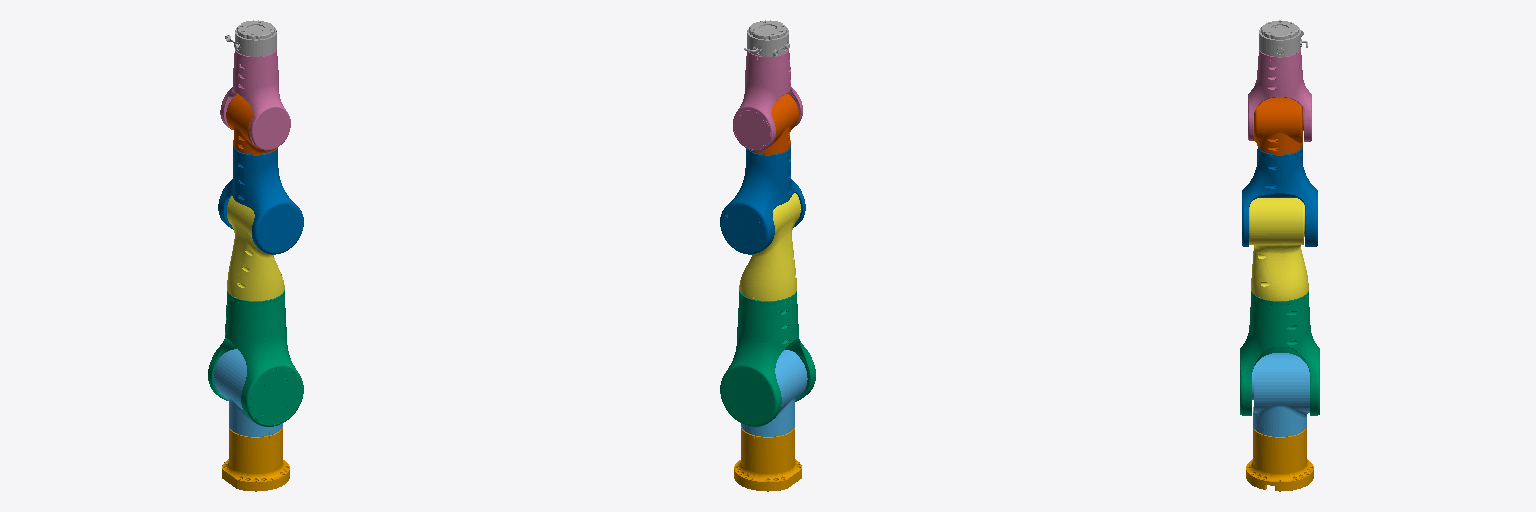
robot.urdf — DobotCR5:
<?xml version="1.0" ?>
<!-- =================================================================================== -->
<!-- |    This document was autogenerated by xacro from robot.xacro                    | -->
<!-- |    EDITING THIS FILE BY HAND IS NOT RECOMMENDED                                 | -->
<!-- =================================================================================== -->
<robot name="DobotCR5">
  <!-- Arm Base Link -->
  <link name="base_link">
    <inertial>
      <mass value="2.4"/>
      <inertia ixx="0.00397965" ixy="0.00000303" ixz="0.00000035" iyy="0.00315361" iyz="0.00002442" izz="0.00357979"/>
      <origin xyz="2.6805e-05 0.0011749210000000002 0.171179958"/>
    </inertial>
    <visual>
      <geometry>
        <mesh filename="package://rokae_ar5_description/meshes/base.obj" scale="1 -1 1"/>
      </geometry>
    </visual>
    <collision>
      <geometry>
        <mesh filename="package://rokae_ar5_description/meshes/base.obj" scale="1 -1 1"/>
      </geometry>
    </collision>
  </link>
  <!-- Joint 1 -->
  <joint name="joint1" type="revolute">
    <parent link="base_link"/>
    <child link="link1"/>
    <limit effort="108" lower="-3.1414" upper="3.1414" velocity="3.9269908169872414"/>
    <axis xyz="0 0 1"/>
    <origin rpy="0 0 -3.14159" xyz="0.0 0.0 0.1745"/>
  </joint>
  <!-- Arm Link 1 -->
  <link name="link1">
    <inertial>
      <mass value="2.4"/>
      <inertia ixx="0.00397965" ixy="0.00000303" ixz="0.00000035" iyy="0.00315361" iyz="0.00002442" izz="0.00357979"/>
      <origin xyz="2.6805e-05 0.0011749210000000002 0.171179958"/>
    </inertial>
    <visual>
      <geometry>
        <mesh filename="package://rokae_ar5_description/meshes/link1.obj" scale="1 -1 1"/>
      </geometry>
    </visual>
    <collision>
      <geometry>
        <mesh filename="package://rokae_ar5_description/meshes/link1.obj" scale="1 -1 1"/>
      </geometry>
    </collision>
  </link>
  <!-- Joint 2 -->
  <joint name="joint2" type="revolute">
    <parent link="link1"/>
    <child link="link2"/>
    <limit effort="108" lower="-2.1293" upper="2.1293" velocity="3.9269908169872414"/>
    <axis xyz="0 -1 0"/>
  </joint>
  <!-- Arm Link 2 -->
  <link name="link2">
    <inertial>
      <mass value="2.26"/>
      <inertia ixx="0.00998456" ixy="0.00000011" ixz="-0.00000049" iyy="0.00864243" iyz="0.00070944" izz="0.00397909"/>
      <origin xyz="1.0382e-05 -0.003330598 0.100666568"/>
    </inertial>
    <visual>
      <geometry>
        <mesh filename="package://rokae_ar5_description/meshes/link2.obj" scale="1 -1 1"/>
      </geometry>
    </visual>
    <collision>
      <geometry>
        <mesh filename="package://rokae_ar5_description/meshes/link2.obj" scale="1 -1 1"/>
      </geometry>
    </collision>
  </link>
  <!-- Joint 3 -->
  <joint name="joint3" type="revolute">
    <parent link="link2"/>
    <child link="link3"/>
    <limit effort="66" lower="-3.1416" upper="3.1416" velocity="5.235987755982989"/>
    <axis xyz="0 0 1"/>
    <origin rpy="0 0 3.1415926535" xyz="0.0 0.0 0.305"/>
  </joint>
  <!-- Arm Link 3 -->
  <link name="link3">
    <inertial>
      <mass value="1.85"/>
      <inertia ixx="0.00514901" ixy="0.00000705" ixz="0.00033523" iyy="0.00455840" iyz="0.00005313" izz="0.00249866"/>
      <origin xyz="0.007574792 0.001848523 -0.017501298"/>
    </inertial>
    <visual>
      <geometry>
        <mesh filename="package://rokae_ar5_description/meshes/link3.obj" scale="1 -1 1"/>
      </geometry>
    </visual>
    <collision>
      <geometry>
        <mesh filename="package://rokae_ar5_description/meshes/link3.obj" scale="1 -1 1"/>
      </geometry>
    </collision>
  </link>
  <!-- Joint 4 -->
  <joint name="joint4" type="revolute">
    <parent link="link3"/>
    <child link="link4"/>
    <limit effort="66" lower="-1.3963" upper="2.5307" velocity="5.235987755982989"/>
    <axis xyz="0 1 0"/>
    <origin xyz="0.01 0.0 0.0"/>
  </joint>
  <!-- Arm Link 4 -->
  <link name="link4">
    <inertial>
      <mass value="1.19"/>
      <inertia ixx="0.00358515" ixy="-0.00005009" ixz="-0.00016645" iyy="0.00288820" iyz="0.00041392" izz="0.00173347"/>
      <origin xyz="-0.007943048 -0.005043471 0.070013368"/>
    </inertial>
    <visual>
      <geometry>
        <mesh filename="package://rokae_ar5_description/meshes/link4.obj" scale="1 -1 1"/>
      </geometry>
    </visual>
    <collision>
      <geometry>
        <mesh filename="package://rokae_ar5_description/meshes/link4.obj" scale="1 -1 1"/>
      </geometry>
    </collision>
  </link>
  <!-- Joint 5 -->
  <joint name="joint5" type="revolute">
    <parent link="link4"/>
    <child link="link5"/>
    <limit effort="19" lower="-3.1416" upper="3.1416" velocity="4.1887902047863905"/>
    <axis xyz="0 0 1"/>
    <origin xyz="-0.01 0.0 0.179"/>
  </joint>
  <!-- Arm Link 5 -->
  <link name="link5">
    <inertial>
      <mass value="0.95"/>
      <inertia ixx="0.00094370" ixy="0.00000057" ixz="0.00000060" iyy="0.00071483" iyz="0.00000919" izz="0.00086730"/>
      <origin xyz="1.2128e-05 0.001731178 -0.0026525620000000002"/>
    </inertial>
    <visual>
      <geometry>
        <mesh filename="package://rokae_ar5_description/meshes/link5.obj" scale="1 -1 1"/>
      </geometry>
    </visual>
    <collision>
      <geometry>
        <mesh filename="package://rokae_ar5_description/meshes/link5.obj" scale="1 -1 1"/>
      </geometry>
    </collision>
  </link>
  <!-- Joint 6 -->
  <joint name="joint6" type="revolute">
    <parent link="link5"/>
    <child link="link6"/>
    <limit effort="19" lower="-1.9722" upper="1.9722" velocity="4.1887902047863905"/>
    <axis xyz="0 1 0"/>
  </joint>
  <!-- Arm Link 6 -->
  <link name="link6">
    <inertial>
      <mass value="1.06"/>
      <inertia ixx="0.00230759" ixy="-0.00000067" ixz="0.00000072" iyy="0.00195677" iyz="0.00018711" izz="0.00103394"/>
      <origin xyz="-5.3371e-05 -0.0023381310000000002 0.07615395800000001"/>
    </inertial>
    <visual>
      <geometry>
        <mesh filename="package://rokae_ar5_description/meshes/link6.obj" scale="1 -1 1"/>
      </geometry>
    </visual>
    <collision>
      <geometry>
        <mesh filename="package://rokae_ar5_description/meshes/link6.obj" scale="1 -1 1"/>
      </geometry>
    </collision>
  </link>
  <!-- Joint 7 -->
  <joint name="joint7" type="revolute">
    <parent link="link6"/>
    <child link="link7"/>
    <limit effort="19" lower="-3.1416" upper="3.1416" velocity="4.1887902047863905"/>
    <axis xyz="0 0 1"/>
    <origin xyz="0.0 0.0 0.166"/>
  </joint>
  <!-- Arm Link 7 -->
  <link name="link7">
    <inertial>
      <mass value="0.18"/>
      <inertia ixx="0.00009976" ixy="0.00000139" ixz="0.00000025" iyy="0.00009671" iyz="0.00000036" izz="0.00014828"/>
      <origin xyz="-0.000158025 3.6244e-05 -0.017928215"/>
    </inertial>
    <visual>
      <geometry>
        <mesh filename="package://rokae_ar5_description/meshes/link7.obj" scale="1 -1 1"/>
      </geometry>
    </visual>
    <collision>
      <geometry>
        <mesh filename="package://rokae_ar5_description/meshes/link7.obj" scale="1 -1 1"/>
      </geometry>
    </collision>
  </link>
</robot>

--- Facts derived from the render (not from the file) ---
Views: 3 orthographic renders of the robot side by side, from view 1: azimuth 30°, elevation 25°; view 2: azimuth 150°, elevation 25°; view 3: azimuth 270°, elevation 25°.
Model DobotCR5 with 8 links and 7 joints (7 revolute), rooted at base_link, posed all joints at 0.
Visible links, largest first — view 1: link2, link4, link6, link3, base_link, link1, link7, link5; view 2: link2, link4, link6, link3, base_link, link1, link7, link5; view 3: link3, link2, link1, link4, base_link, link6, link5, link7.
Boxes of the visible links, x1,y1,x2,y2 form: link2: [208, 290, 303, 426]; link4: [218, 146, 303, 254]; link6: [220, 50, 290, 150]; link3: [227, 196, 284, 300]; base_link: [222, 427, 289, 491]; link1: [214, 349, 282, 436]; link7: [225, 20, 276, 56]; link5: [226, 94, 276, 154]; link2: [720, 290, 815, 426]; link4: [720, 146, 805, 254]; link6: [733, 50, 802, 150]; link3: [739, 193, 800, 300]; base_link: [734, 427, 801, 491]; link1: [741, 350, 807, 436]; link7: [744, 20, 789, 56]; link5: [748, 94, 798, 154]; link3: [1249, 198, 1308, 300]; link2: [1240, 291, 1319, 415]; link1: [1252, 353, 1309, 436]; link4: [1242, 146, 1317, 246]; base_link: [1246, 428, 1313, 491]; link6: [1248, 50, 1311, 141]; link5: [1254, 97, 1303, 154]; link7: [1259, 20, 1307, 56].
Bounding box of the posed robot: 0.1135 × 0.134 × 0.8245 m (x, y, z).
8 mesh visuals loaded from 8 distinct referenced files (8 OBJ).
